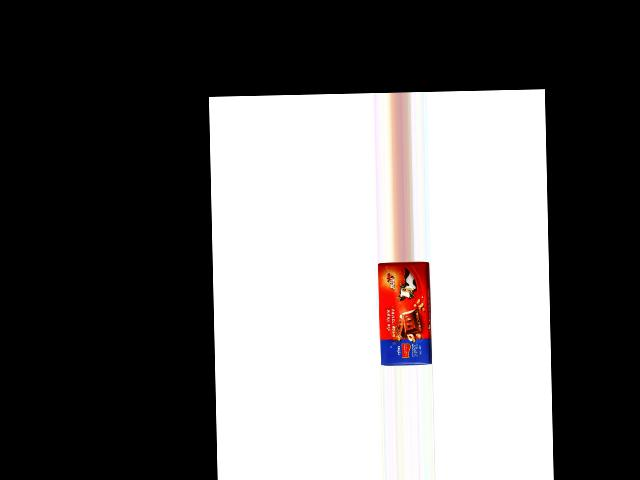chocolate: (378, 260, 431, 365)
